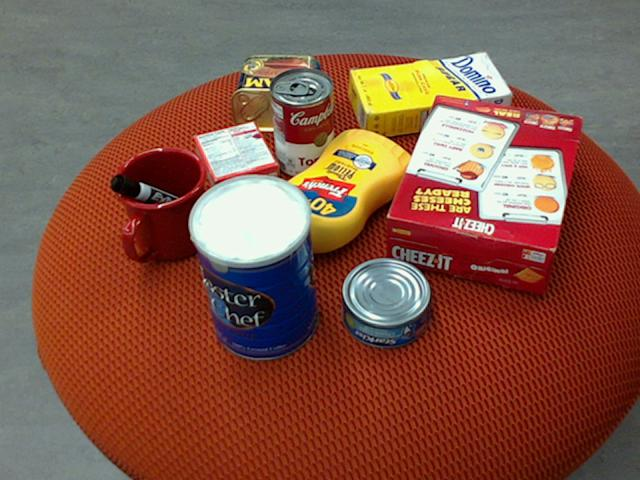cracker_box: (386, 93, 585, 293)
gelatin_box: (193, 120, 278, 200)
large_marker: (108, 173, 206, 223)
master_chef_can: (183, 175, 318, 361)
mug: (110, 147, 211, 262)
mustard_bottle: (261, 129, 414, 263)
potted_meat_can: (232, 55, 323, 131)
sugar_box: (349, 51, 514, 139)
tomato_soup_can: (270, 66, 334, 177)
tuna_fish_can: (342, 257, 432, 349)
